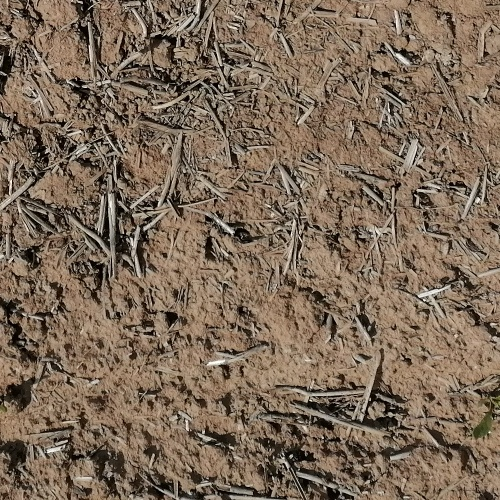beet: (472, 393, 500, 440)
